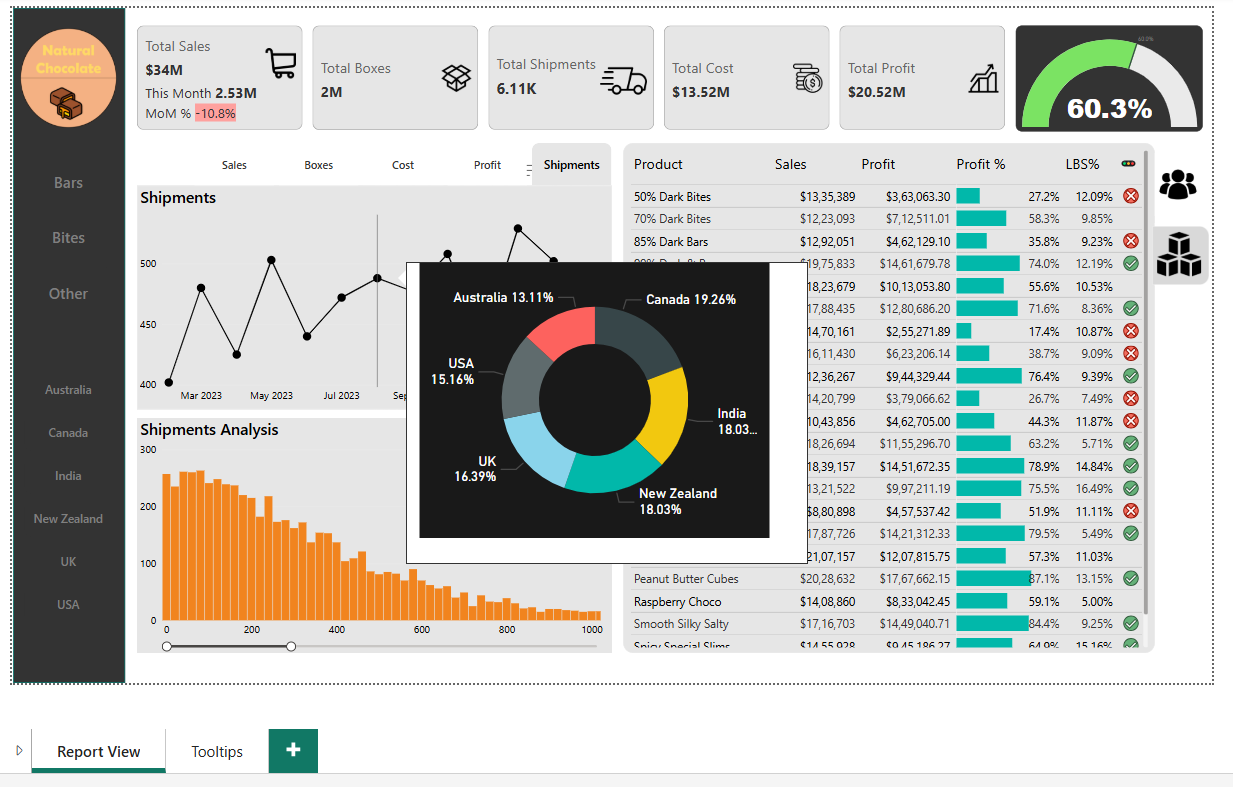

This screenshot's page, from the dashboard's own definition file:
{"tool":"powerbi","page":{"name":"Report View","canvas":[1920,1080],"ordinal":0},"visuals":[{"type":"shape","box":[1.9,0,179.1,1080.4],"z":0},{"type":"cardVisual","fields":{"Data":["_Measures.Total Sales","_Measures.Total Boxes","_Measures.Total Shipments","_Measures.Total Cost","_Measures.Total Profit"]},"box":[200.3,27.2,1393.1,167.2],"z":1000},{"type":"gauge","fields":{"Y":["_Measures.% Profit"]},"box":[1605.6,27.5,299.1,169.6],"z":2000},{"type":"image","box":[0,28,181,167.9],"z":3000},{"type":"lineChart","fields":{"Category":["calendar.Start of Month"],"Y":["_Measures.Total Shipments"]},"box":[200,284,760,358],"z":4000},{"type":"advancedSlicerVisual","fields":{"Values":["Measure Selector.Measure Selector"]},"box":[292,216,668,68],"z":5000},{"type":"columnChart","title":"Shipments Analysis","fields":{"Category":["shipments.Boxes (bins)"],"Y":["_Measures.Total Shipments"]},"box":[200,656,760,376],"z":6000},{"type":"gauge","fields":{"Y":["_Measures.LBS%"]},"box":[756,672,186,122],"z":7000},{"type":"tableEx","title":"Product","fields":{"Values":["products.Product","_Measures.Total Sales","_Measures.Total Profit","_Measures.% Profit","_Measures.LBS%","_Measures.Profit Targate Indicator"]},"box":[978,216,850,816],"z":9000},{"type":"image","title":"Sales team","box":[1828,232,75,100],"z":10000},{"type":"image","title":"Product","box":[1828,343,75,100],"z":11000},{"type":"advancedSlicerVisual","fields":{"Values":["products.Category"]},"box":[14,232,152,270],"z":11001},{"type":"advancedSlicerVisual","fields":{"Values":["shipments.Geography"]},"box":[14,574,152,418],"z":11002},{"type":"image","title":"product selection","box":[1824,344,90,100],"z":11003}]}

Visuals, with their boxes on the page's 1920x1080 design canvas (x1, y1, x2, y2). These are canvas units, not pixel positions in the 1233x787 screenshot, which may show the page scaled, cropped or inside an application window:
shape: bbox=(2, 0, 181, 1080)
cardVisual - _Measures.Total Sales x _Measures.Total Boxes: bbox=(200, 27, 1593, 194)
gauge - _Measures.% Profit: bbox=(1606, 28, 1905, 197)
image: bbox=(0, 28, 181, 196)
lineChart - calendar.Start of Month x _Measures.Total Shipments: bbox=(200, 284, 960, 642)
advancedSlicerVisual - Measure Selector.Measure Selector: bbox=(292, 216, 960, 284)
"Shipments Analysis" columnChart: bbox=(200, 656, 960, 1032)
gauge - _Measures.LBS%: bbox=(756, 672, 942, 794)
"Product" tableEx: bbox=(978, 216, 1828, 1032)
"Sales team" image: bbox=(1828, 232, 1903, 332)
"Product" image: bbox=(1828, 343, 1903, 443)
advancedSlicerVisual - products.Category: bbox=(14, 232, 166, 502)
advancedSlicerVisual - shipments.Geography: bbox=(14, 574, 166, 992)
"product selection" image: bbox=(1824, 344, 1914, 444)
